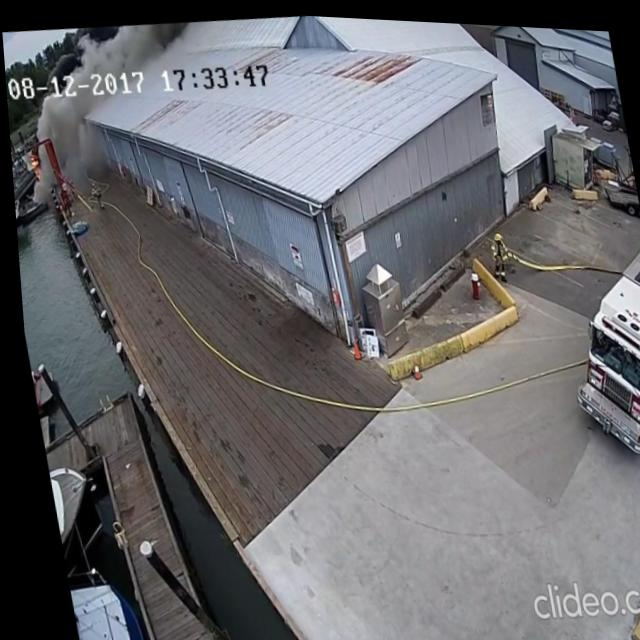fire: (22, 149, 44, 181)
